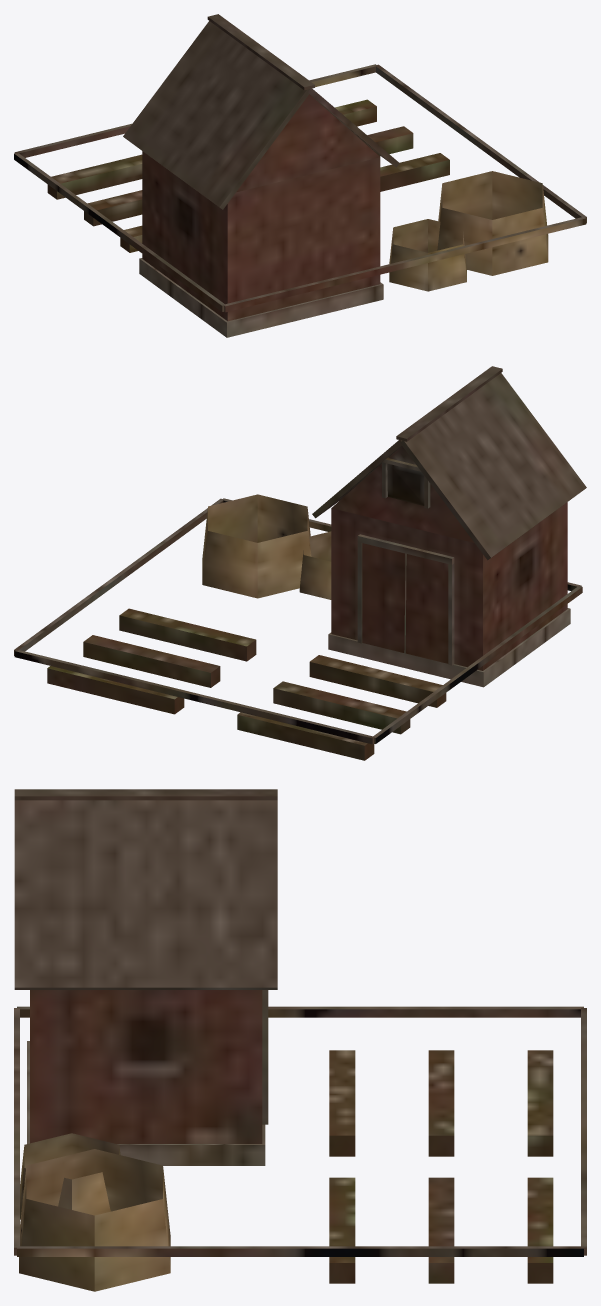
The model's file is b_farm_xfar.glb.
3 views of the same model, one above another, from view 1: azimuth 30°, elevation 25°; view 2: azimuth 150°, elevation 25°; view 3: azimuth 270°, elevation 25° (orthographic). The views are drawn at different scales.
Parts seen in each view (by area): view 1: b_farm_xfar; view 2: b_farm_xfar; view 3: b_farm_xfar.
Part boxes in pixels (left/top/right/bottom): b_farm_xfar: left=14, top=14, right=586, bottom=337; b_farm_xfar: left=14, top=366, right=586, bottom=760; b_farm_xfar: left=14, top=789, right=586, bottom=1291.
Bounding box in the file's own units: 7.6 × 4.65 × 7.52.
Materials: 1 (1 with a texture image).
